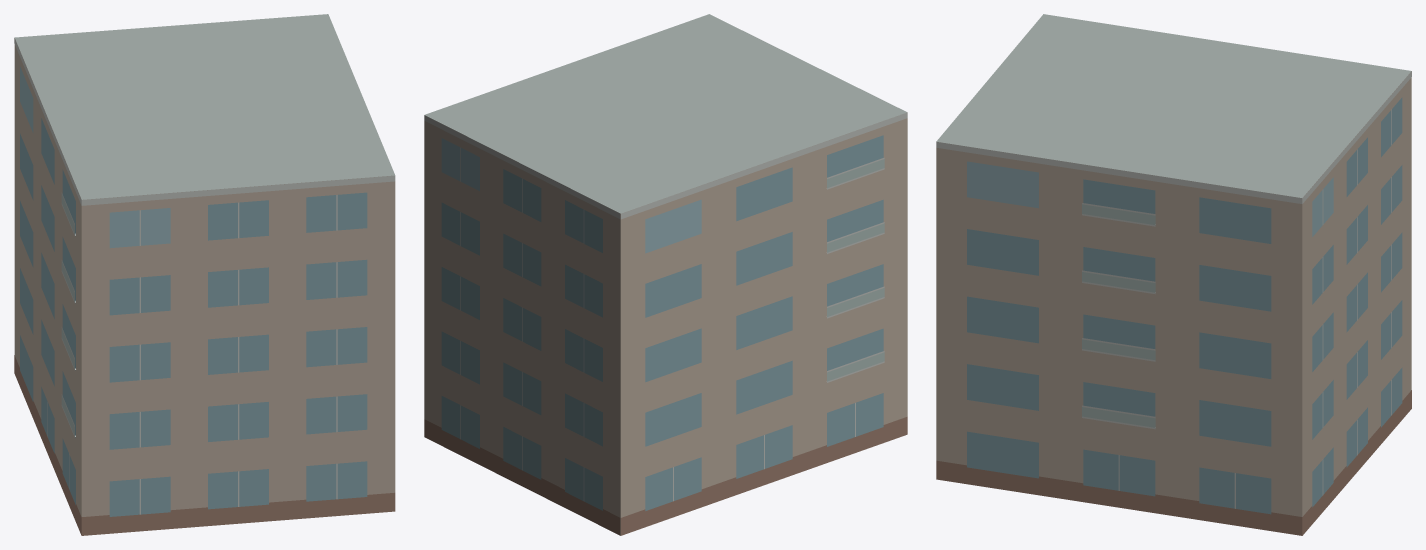
The model's file is survey-upis-32849547.glb.
The picture shows the model from 3 angles, left to right: view 1: azimuth 30°, elevation 25°; view 2: azimuth 150°, elevation 25°; view 3: azimuth 270°, elevation 25°; orthographic projection. The views are drawn at different scales.
Parts seen in each view (by area): view 1: survey-upis-32849547.tmp; view 2: survey-upis-32849547.tmp; view 3: survey-upis-32849547.tmp.
Part boxes in pixels (x1,y1,x2,y2): survey-upis-32849547.tmp: (14,14,395,535); survey-upis-32849547.tmp: (424,14,907,535); survey-upis-32849547.tmp: (936,14,1411,535).
Bounding box in the file's own units: 16.03 × 13.7 × 17.49.
